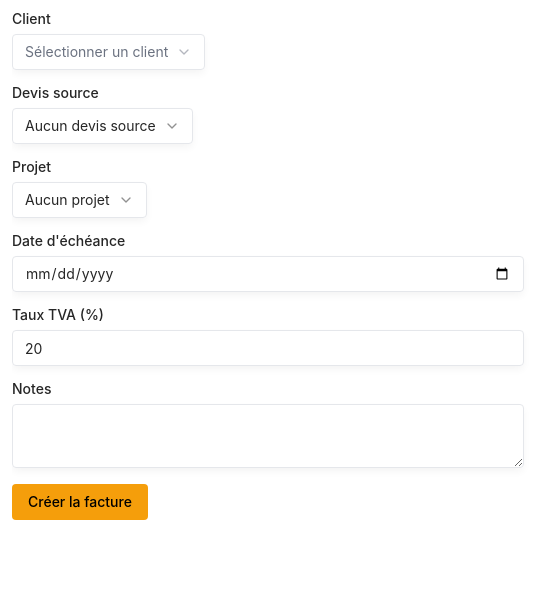
it: InvoiceForm › contact_select_hidden_when_quote_selected
The width and height of the screenshot is (541, 611).
Click the dropdown with test id "invoice-clientId-select" at (109, 52), box [12,34,205,70]
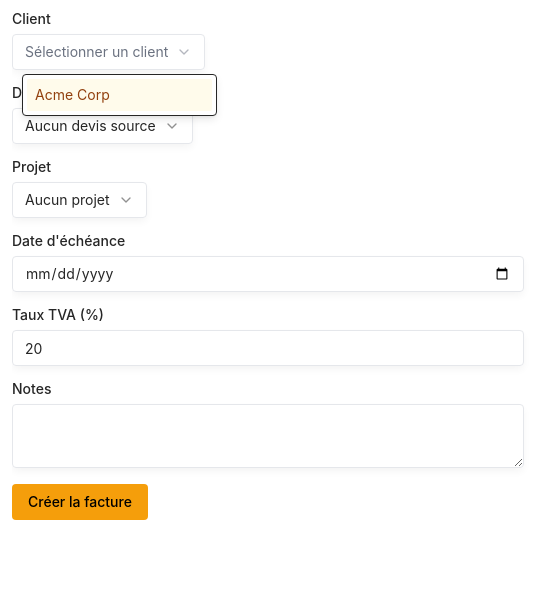
Check: the option "Acme Corp" is shown
Click the option "Acme Corp" at (120, 95), box [27,79,212,111]
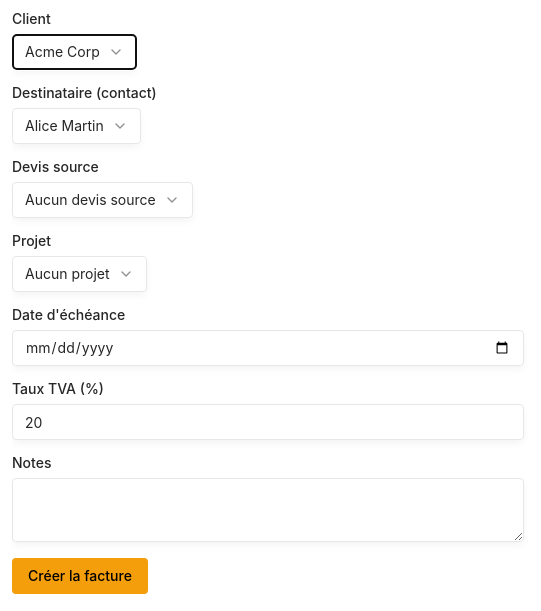
Check: the dropdown with test id "invoice-contactId-select" is shown, box [12,108,141,144]
Click the dropdown with test id "invoice-quoteId-select" at (102, 200), box [12,182,193,218]
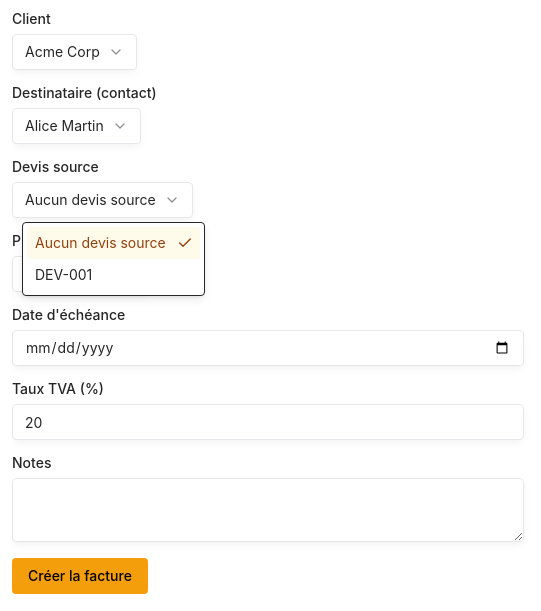
Check: the option "DEV-001" is shown
Click the option "DEV-001" at (64, 274), box [35,266,92,283]
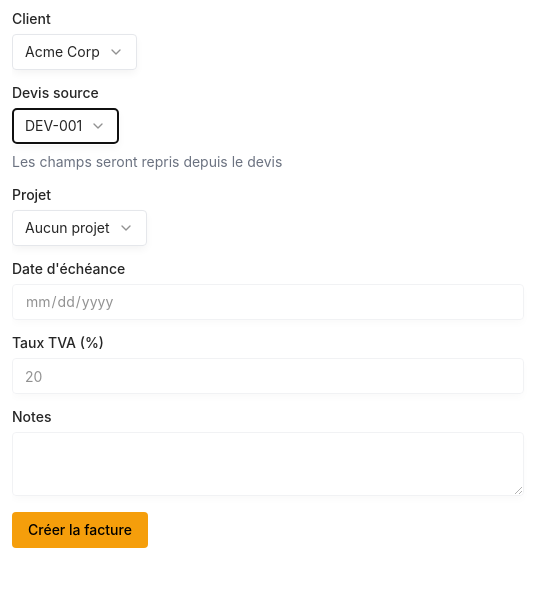
Check: the dropdown with test id "invoice-contactId-select" is gone
